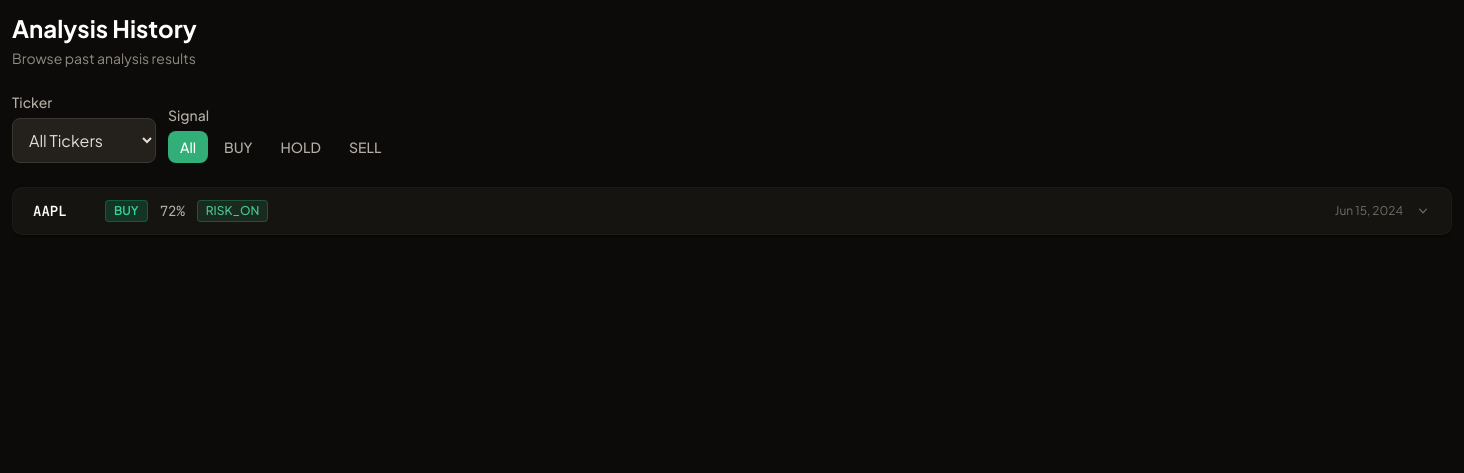
AnalysisHistoryPage confidence display › renders agent confidence as-is when a row is expanded
Click the button "AAPL BUY 72% RISK_ON Jun 15, 2024". click: (50, 211)
box: [13,188,1451,234]
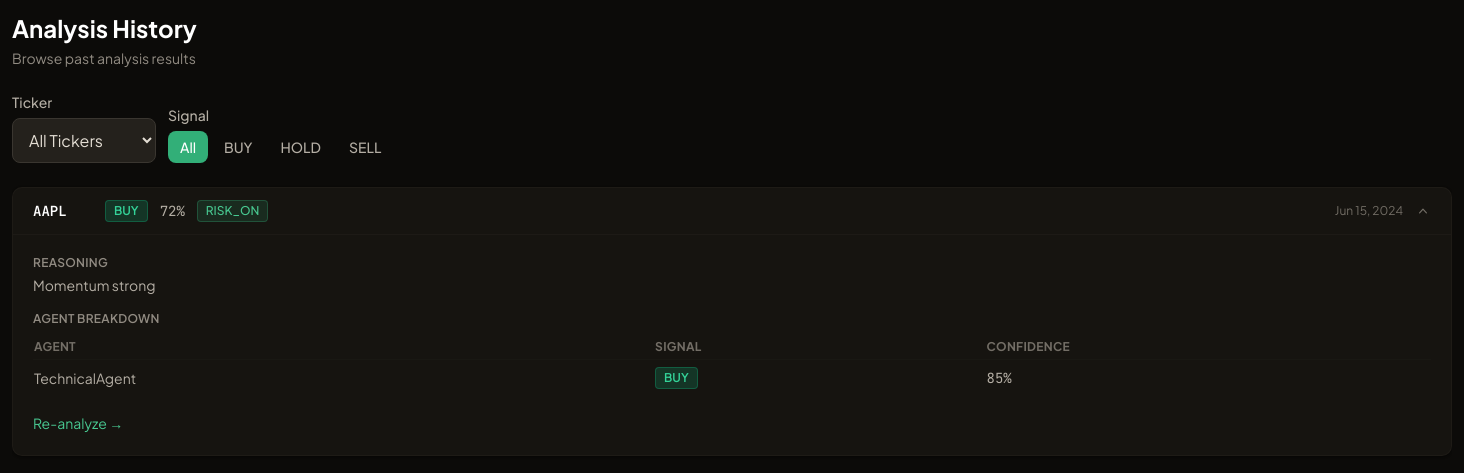
Expected: the text "TechnicalAgent" is shown, [33,360,654,395]
Expected: the text "85%" is shown, [986,360,1431,395]
